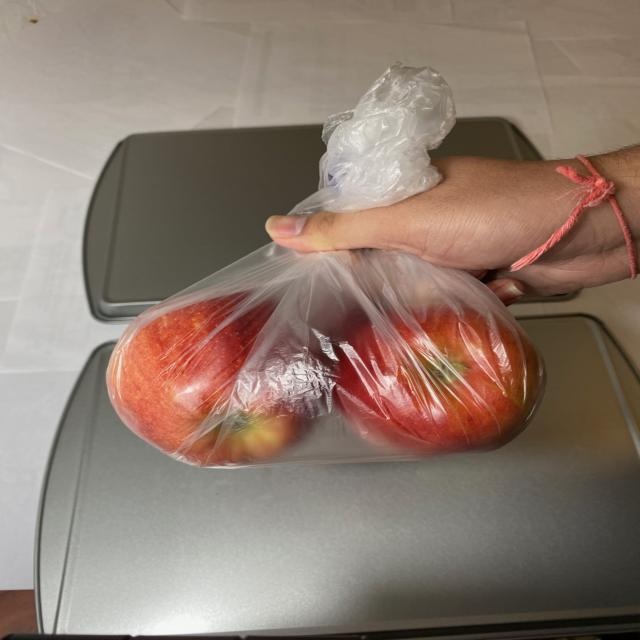apple: (95, 292, 552, 471)
